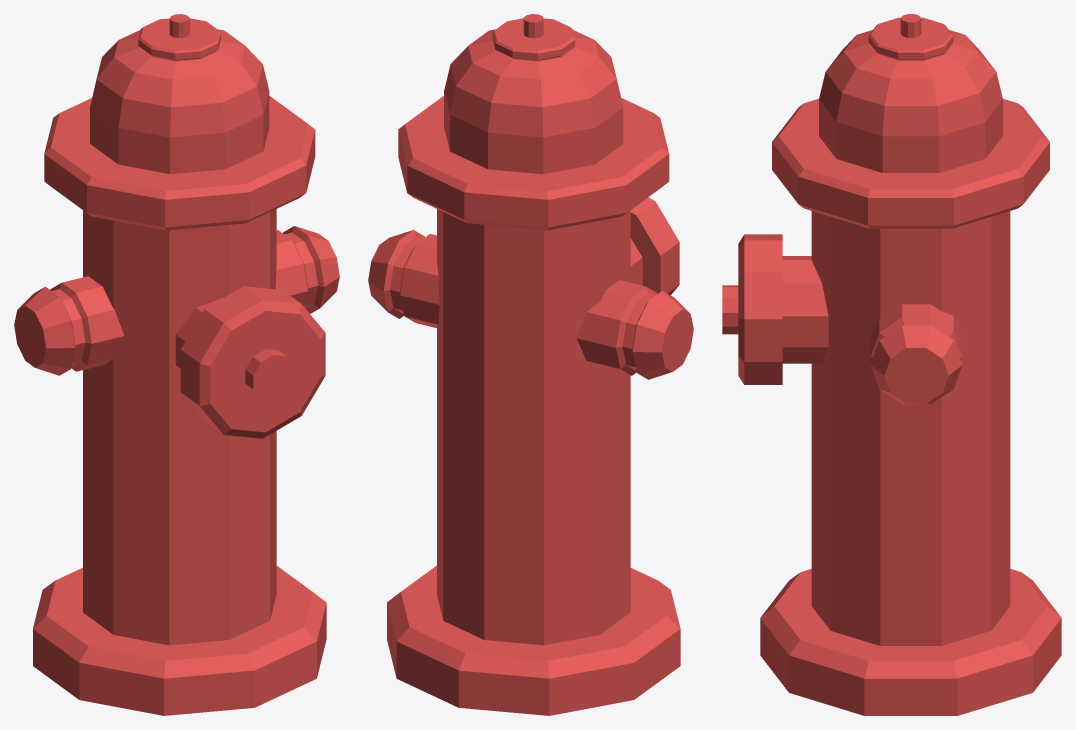
The model's file is Fire_Hydrant.fbx.
The picture shows the model from 3 angles, left to right: view 1: azimuth 30°, elevation 25°; view 2: azimuth 150°, elevation 25°; view 3: azimuth 270°, elevation 25°; orthographic projection.
Parts seen in each view (by area): view 1: Fire Hydrant; view 2: Fire Hydrant; view 3: Fire Hydrant.
Boxes of the visible parts, <box> form: Fire Hydrant: <box>14,14,339,715</box>; Fire Hydrant: <box>368,14,693,715</box>; Fire Hydrant: <box>722,14,1061,715</box>.
Bounding box in the file's own units: 29.82 × 61.57 × 29.73.
